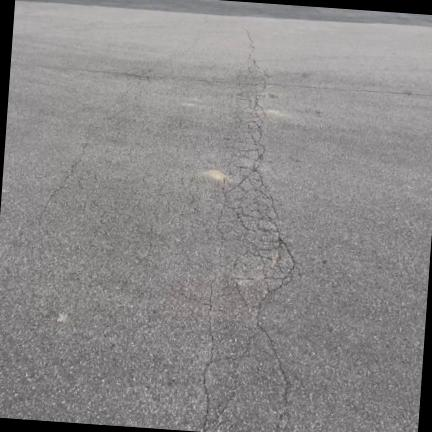Road: (0, 2, 431, 431)
